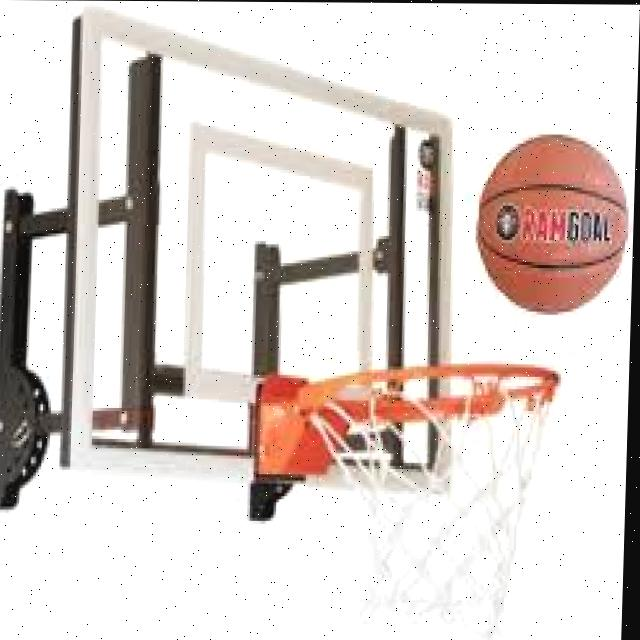basketball: (475, 137, 629, 315)
hoop: (285, 353, 561, 640)
